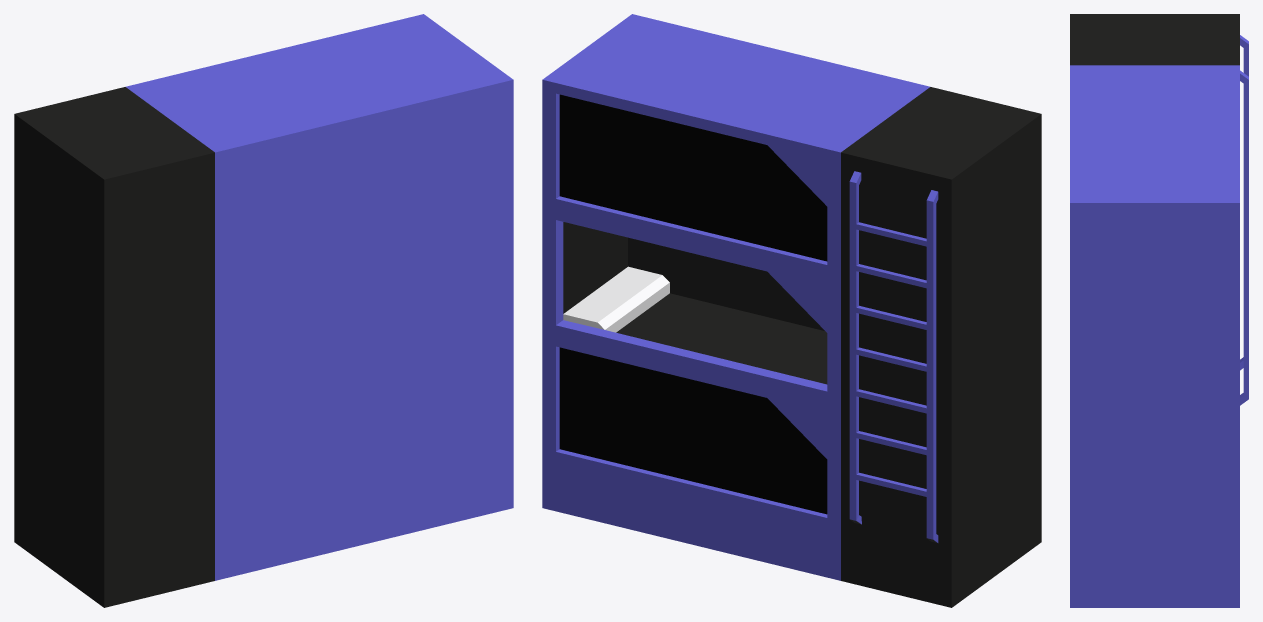
File: Bed_1.2.fbx
The picture shows the model from 3 angles, left to right: view 1: azimuth 30°, elevation 25°; view 2: azimuth 150°, elevation 25°; view 3: azimuth 270°, elevation 25°; orthographic projection. The views are drawn at different scales.
Visible parts, largest first — view 1: beds.003; view 2: beds.003; view 3: beds.003.
Boxes of the visible parts, x1,y1,x2,y2 form: beds.003: (14,14,513,607); beds.003: (542,14,1041,607); beds.003: (1070,14,1248,607).
Size of the model in its own units: 5 by 2 by 5.
